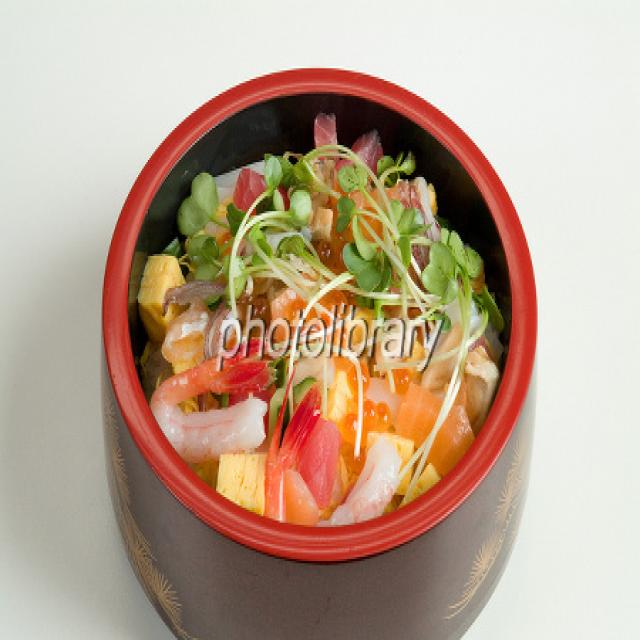寿司卷物: (81, 47, 555, 640)
